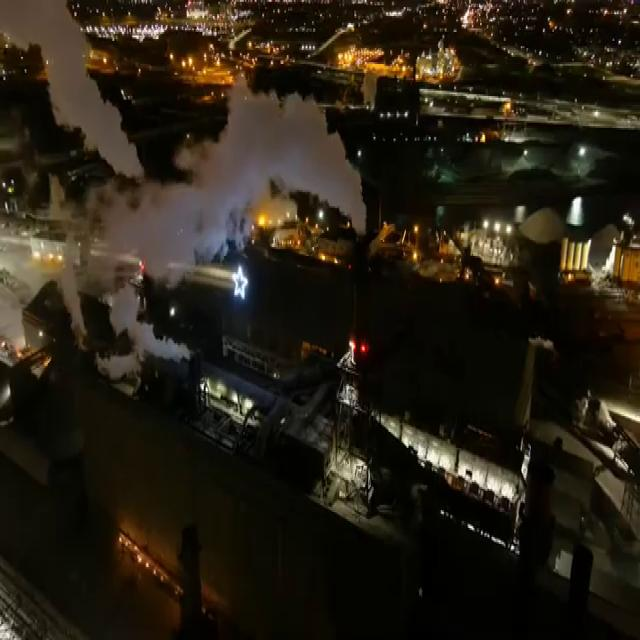smoke: (107, 96, 354, 276), (9, 0, 140, 176), (31, 228, 115, 361), (85, 300, 196, 391)
